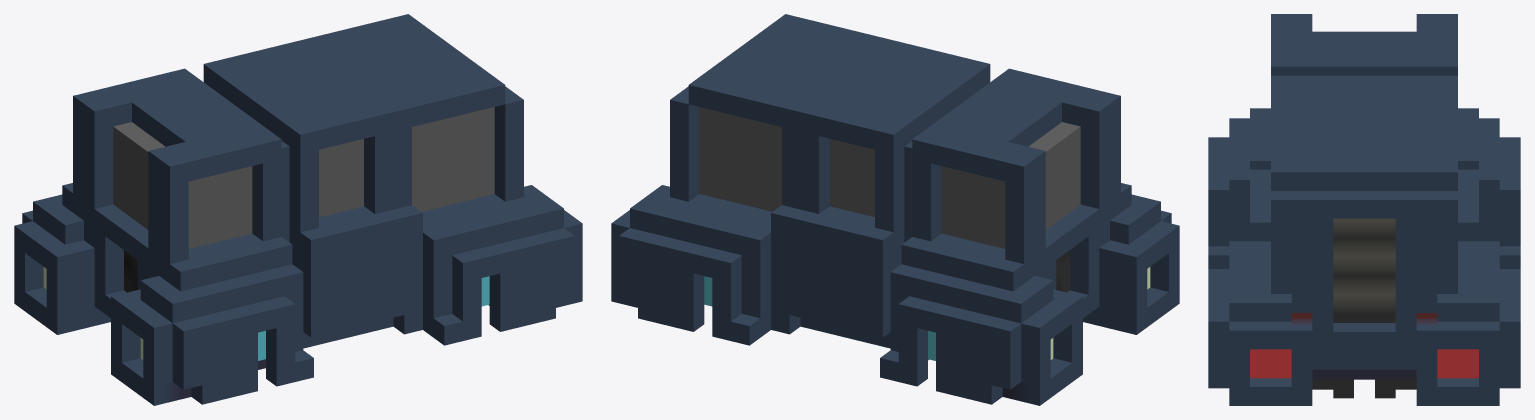
File: vehicle_03.fbx
3 views of the same model, side by side, from view 1: azimuth 30°, elevation 25°; view 2: azimuth 150°, elevation 25°; view 3: azimuth 270°, elevation 25° (orthographic). The views are drawn at different scales.
Visible parts, largest first — view 1: _2; view 2: _2; view 3: _2.
Part boxes in pixels (left/top/right/bottom): _2: left=14, top=14, right=582, bottom=405; _2: left=611, top=14, right=1179, bottom=405; _2: left=1208, top=14, right=1520, bottom=405.
Size of the model in its own units: 23 by 12 by 15.
